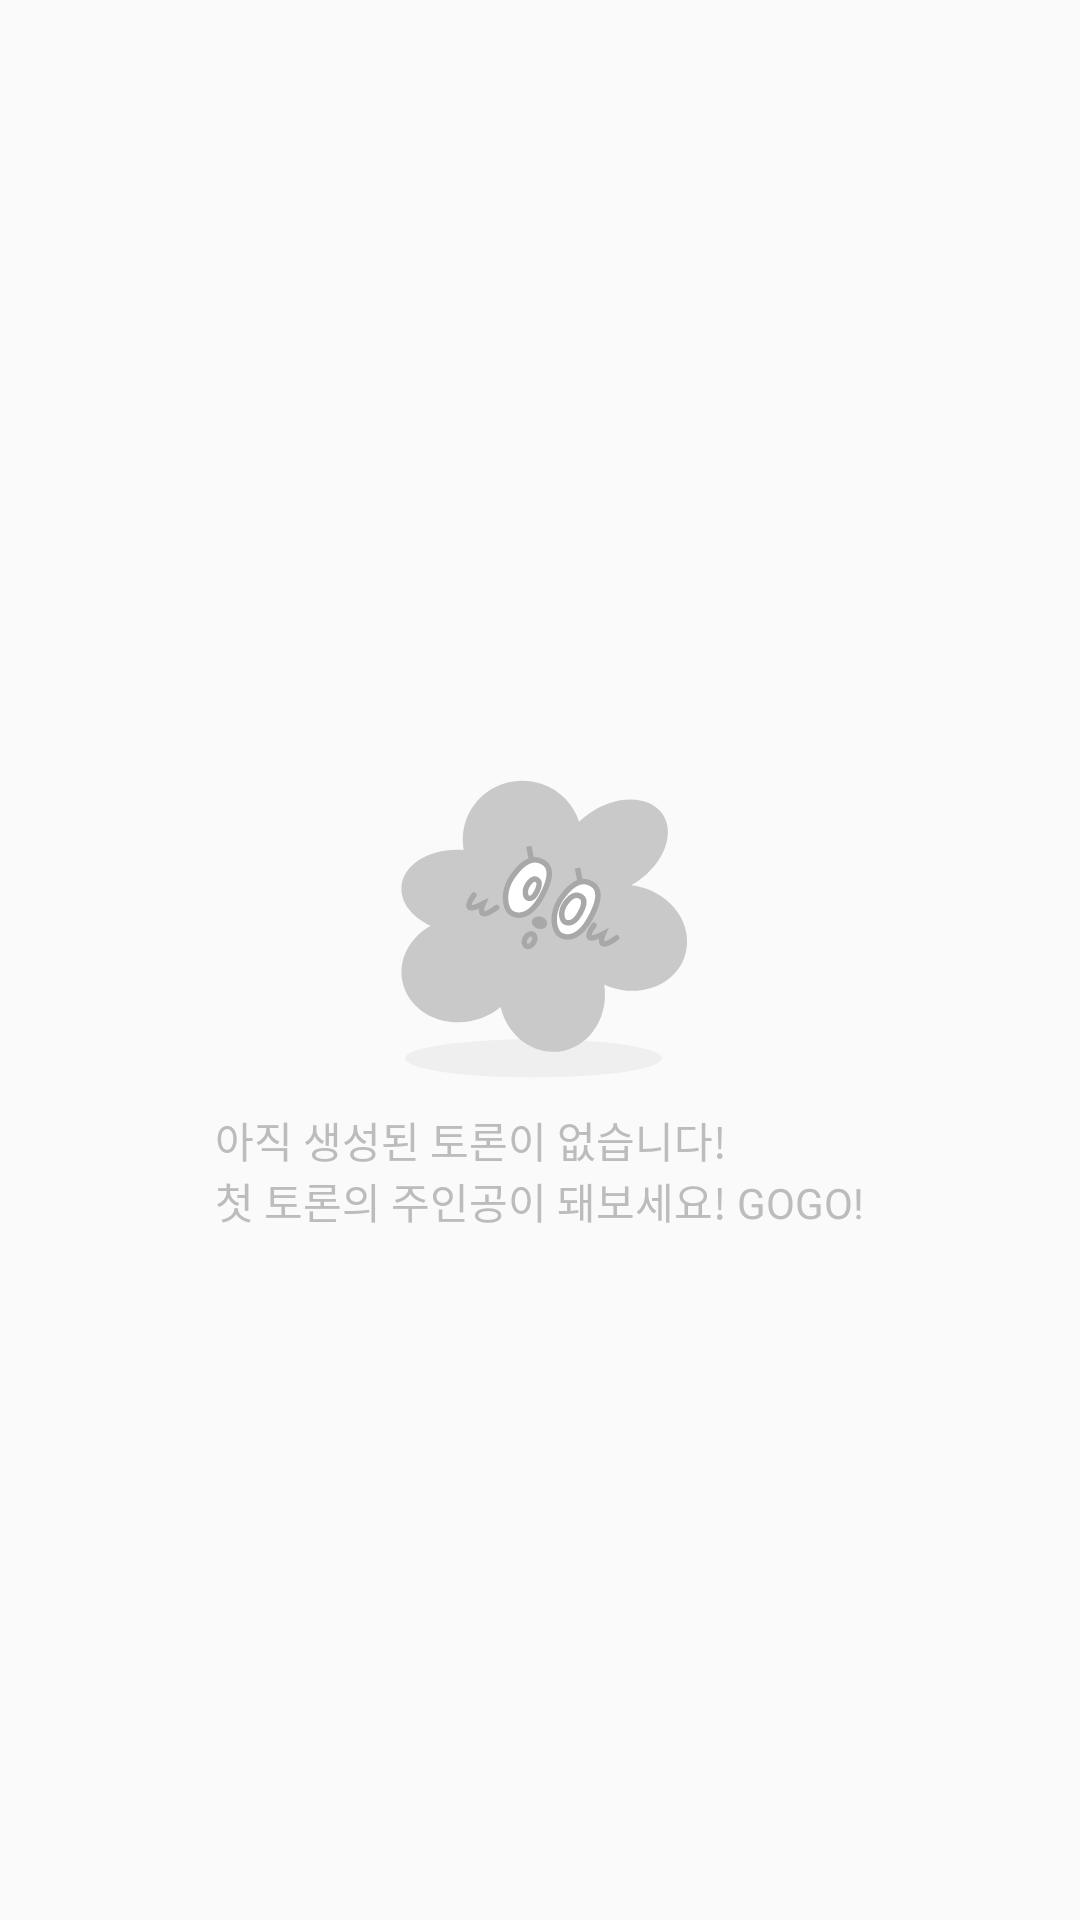

Named icons in this screenshot (1080w x 1920h) and their centers, [x,y]:
empty character: [544,916]
